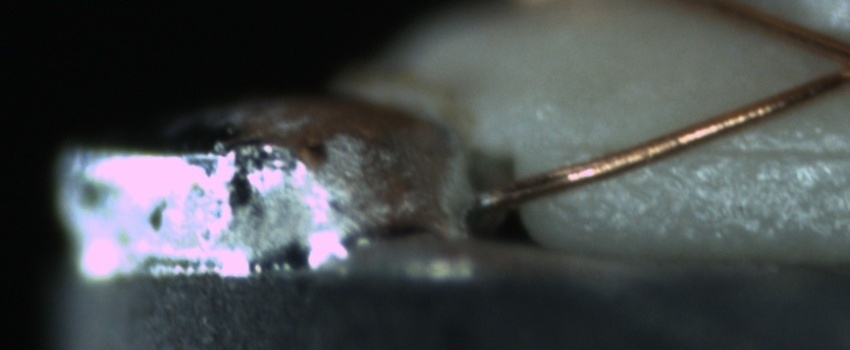DL: (559, 120, 849, 180)
